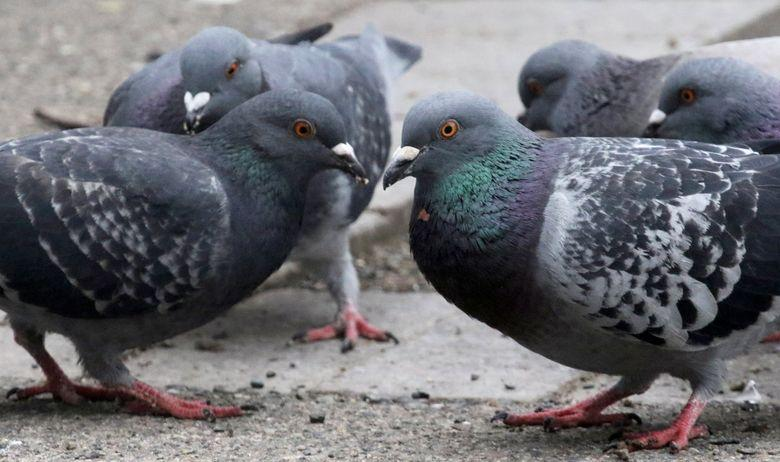Flying Rat: (397, 93, 780, 446), (1, 97, 354, 417), (137, 23, 395, 215), (502, 28, 644, 144), (637, 62, 780, 164)
